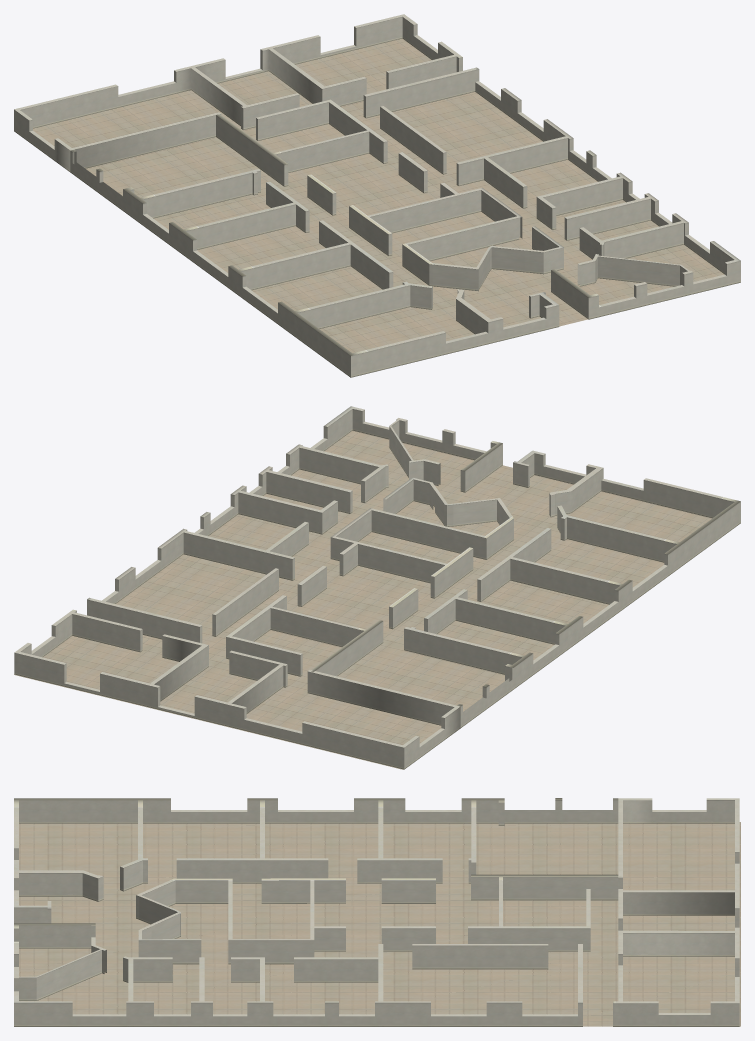
File: walls-and-floor.FBX
The picture shows the model from 3 angles, top to bottom: view 1: azimuth 30°, elevation 25°; view 2: azimuth 150°, elevation 25°; view 3: azimuth 270°, elevation 25°; orthographic projection. The views are drawn at different scales.
Parts seen in each view (by area): view 1: floor, Paredes LEFT, Paredes RIGHT, Paredes INT, Paredes BACK; view 2: floor, Paredes LEFT, Paredes RIGHT, Paredes BACK, Paredes INT; view 3: floor, Paredes RIGHT, Paredes LEFT, Paredes INT, Paredes BACK.
Part boxes in pixels (bbox=[...]): floor: bbox=[33, 38, 724, 353]; Paredes LEFT: bbox=[70, 149, 559, 377]; Paredes RIGHT: bbox=[363, 67, 740, 319]; Paredes INT: bbox=[216, 99, 563, 291]; Paredes BACK: bbox=[14, 14, 462, 171]; floor: bbox=[14, 430, 711, 769]; Paredes LEFT: bbox=[404, 450, 740, 727]; Paredes RIGHT: bbox=[87, 406, 502, 643]; Paredes BACK: bbox=[14, 609, 460, 769]; Paredes INT: bbox=[226, 477, 513, 676]; floor: bbox=[19, 822, 740, 1026]; Paredes RIGHT: bbox=[14, 923, 582, 1026]; Paredes LEFT: bbox=[14, 798, 618, 923]; Paredes INT: bbox=[136, 874, 620, 964]; Paredes BACK: bbox=[613, 798, 739, 1026].
Bounding box in the file's own units: 28 × 1.52 × 41.94.
